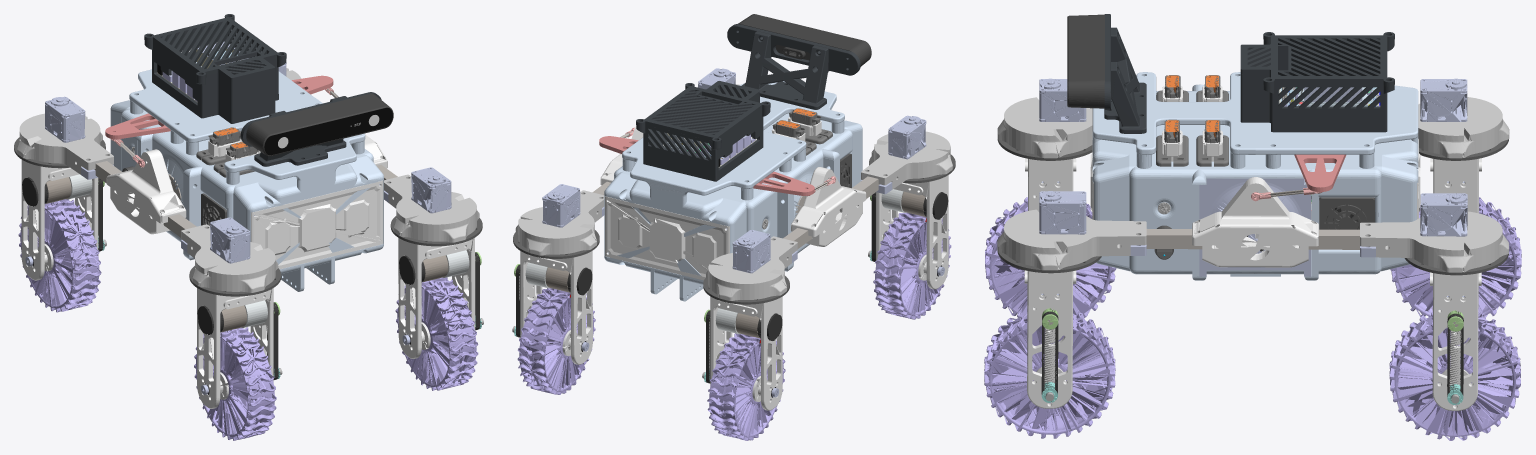
Rendered from NOVA_Assembly_web.glb.
The picture shows the model from 3 angles, left to right: view 1: azimuth 30°, elevation 25°; view 2: azimuth 150°, elevation 25°; view 3: azimuth 270°, elevation 25°; orthographic projection. The views are drawn at different scales.
Parts seen in each view (by area): view 1: Wheel_002-1 (×3), TopStageSwerve_007-1 (×3), NOVA_Battery_Case_Lid-1, WheelBracket_000_configs.step-1 (×3), NOVA_Battery_Case-1, Jetson_Mount_Housing-1, Jetson_Mount_Lid-1, 37d-gearmotor-100-131-150-encoder.step-1 (×3), XL-430_new.stp-1/DC11_A01_DUMMY.stp-1 (×3), Front_Chassis_Screw_Plate_Template-2, Connecting_Triangle_Bracket-3, Back_Chassis_Screw_Plate_Template-1 (+16 smaller); view 2: Wheel_002-1 (×3), TopStageSwerve_007-1 (×3), NOVA_Battery_Case_Lid-2, WheelBracket_000_configs.step-1 (×3), NOVA_Battery_Case-2, Jetson_Mount_Housing-1, Jetson_Mount_Lid-1, Back_Chassis_Screw_Plate_Template-1, XL-430_new.stp-1/DC11_A01_DUMMY.stp-1 (×4), 37d-gearmotor-100-131-150-encoder.step-1 (×3), Zed_mount_Base-1, Connecting_Triangle_Bracket-3 (+12 smaller); view 3: Wheel_002-1 (×4), TopStageSwerve_007-1 (×4), WheelBracket_001_configs.step-1 (×4), Connecting_Triangle_Bracket-1, Jetson_Mount_Housing-1, XL-430_new.stp-1/DC11_A01_DUMMY.stp-1 (×4), Jetson_Mount_Lid-1, Front_Chassis_Screw_Plate_Template-2, NOVA_Chassis_Bottom_Tub_Male-2, Back_Chassis_Screw_Plate_Template-1, ZED 2i Narrow.step-1/Front case - ZED 2i.step-1, NOVA_Chassis_Bottom_Tub_Female-1 (+15 smaller).
Boxes of the visible parts, x1=… form: Wheel_002-1 (×3): x1=18, y1=199, x2=478, y2=440; TopStageSwerve_007-1 (×3): x1=17, y1=113, x2=479, y2=292; NOVA_Battery_Case_Lid-1: x1=251, y1=180, x2=383, y2=269; WheelBracket_000_configs.step-1 (×3): x1=21, y1=160, x2=443, y2=408; NOVA_Battery_Case-1: x1=233, y1=156, x2=383, y2=291; Jetson_Mount_Housing-1: x1=144, y1=25, x2=286, y2=123; Jetson_Mount_Lid-1: x1=144, y1=14, x2=286, y2=81; 37d-gearmotor-100-131-150-encoder.step-1 (×3): x1=22, y1=174, x2=469, y2=335; XL-430_new.stp-1/DC11_A01_DUMMY.stp-1 (×3): x1=45, y1=97, x2=451, y2=262; Front_Chassis_Screw_Plate_Template-2: x1=178, y1=97, x2=365, y2=187; Connecting_Triangle_Bracket-3: x1=106, y1=149, x2=186, y2=234; Back_Chassis_Screw_Plate_Template-1: x1=129, y1=69, x2=314, y2=143; Wheel_002-1 (×3): x1=517, y1=212, x2=951, y2=440; TopStageSwerve_007-1 (×3): x1=515, y1=131, x2=952, y2=300; NOVA_Battery_Case_Lid-2: x1=605, y1=196, x2=729, y2=280; WheelBracket_000_configs.step-1 (×3): x1=551, y1=175, x2=948, y2=410; NOVA_Battery_Case-2: x1=604, y1=173, x2=746, y2=301; Jetson_Mount_Housing-1: x1=636, y1=88, x2=770, y2=181; Jetson_Mount_Lid-1: x1=636, y1=81, x2=770, y2=144; Back_Chassis_Screw_Plate_Template-1: x1=622, y1=137, x2=798, y2=202; XL-430_new.stp-1/DC11_A01_DUMMY.stp-1 (×4): x1=542, y1=68, x2=926, y2=272; 37d-gearmotor-100-131-150-encoder.step-1 (×3): x1=525, y1=189, x2=948, y2=343; Zed_mount_Base-1: x1=741, y1=31, x2=828, y2=109; Connecting_Triangle_Bracket-3: x1=791, y1=167, x2=866, y2=246; Wheel_002-1 (×4): x1=984, y1=197, x2=1521, y2=440; TopStageSwerve_007-1 (×4): x1=997, y1=97, x2=1509, y2=272; WheelBracket_001_configs.step-1 (×4): x1=1027, y1=158, x2=1478, y2=410; Connecting_Triangle_Bracket-1: x1=1192, y1=177, x2=1318, y2=267; Jetson_Mount_Housing-1: x1=1240, y1=40, x2=1394, y2=132; XL-430_new.stp-1/DC11_A01_DUMMY.stp-1 (×4): x1=1039, y1=78, x2=1467, y2=236; Jetson_Mount_Lid-1: x1=1240, y1=32, x2=1394, y2=86; Front_Chassis_Screw_Plate_Template-2: x1=1092, y1=72, x2=1255, y2=168; NOVA_Chassis_Bottom_Tub_Male-2: x1=1129, y1=176, x2=1255, y2=280; Back_Chassis_Screw_Plate_Template-1: x1=1255, y1=85, x2=1418, y2=168; ZED 2i Narrow.step-1/Front case - ZED 2i.step-1: x1=1067, y1=14, x2=1104, y2=108; NOVA_Chassis_Bottom_Tub_Female-1: x1=1255, y1=176, x2=1381, y2=280.
Bounding box in the file's own units: 0.3778 × 0.3595 × 0.5317.
